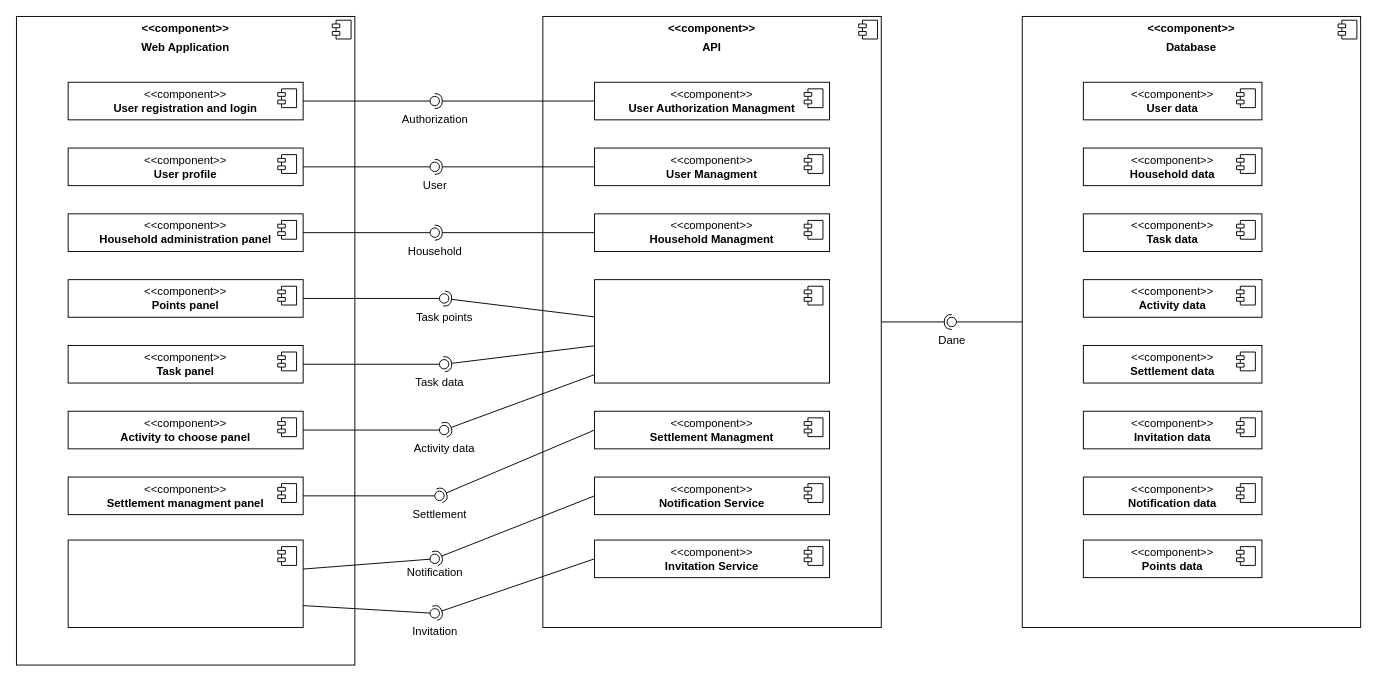
This 1377x682 diagram has some shape labels left out. Each missing label, with the centre of its shape:
"<<component>> Notification panel" belongs at point (185, 583).
"<<component>> Tasks Managment" belongs at point (712, 331).
